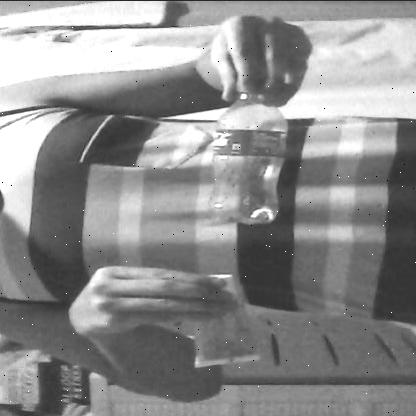Plastic Bottle: (195, 72, 305, 232)
